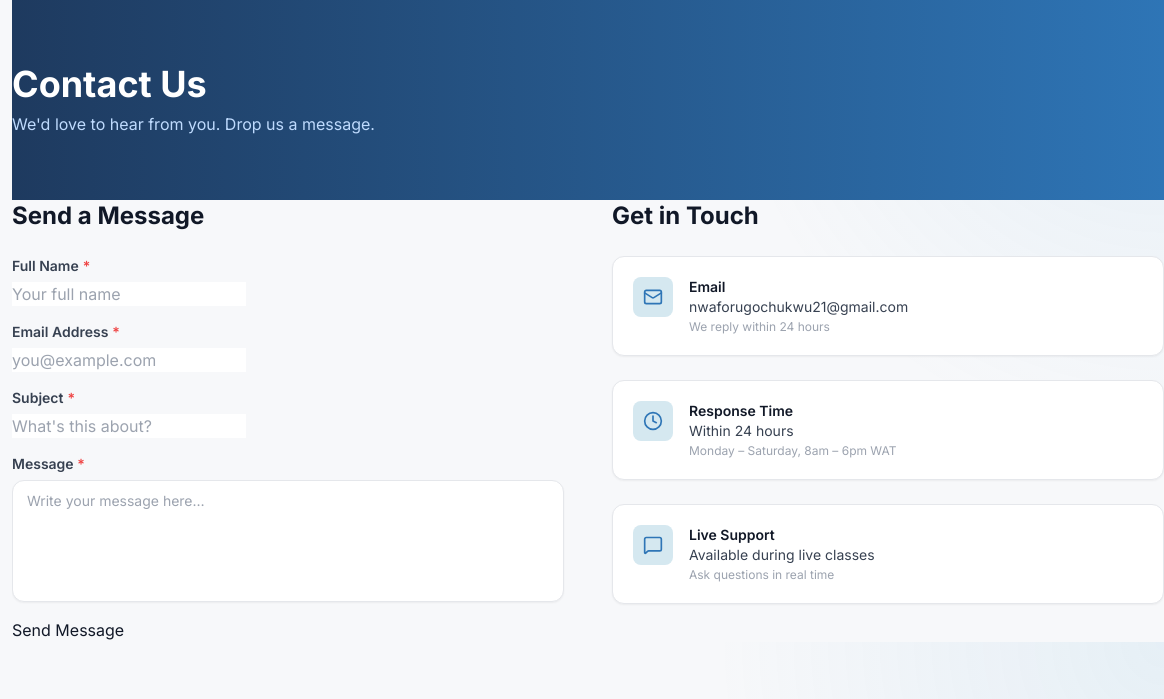
ContactPage › shows an error alert when submission fails
Step 1. Type "Test User" into the field labelled "Full Name*" → (129, 294), box [12, 282, 246, 306]
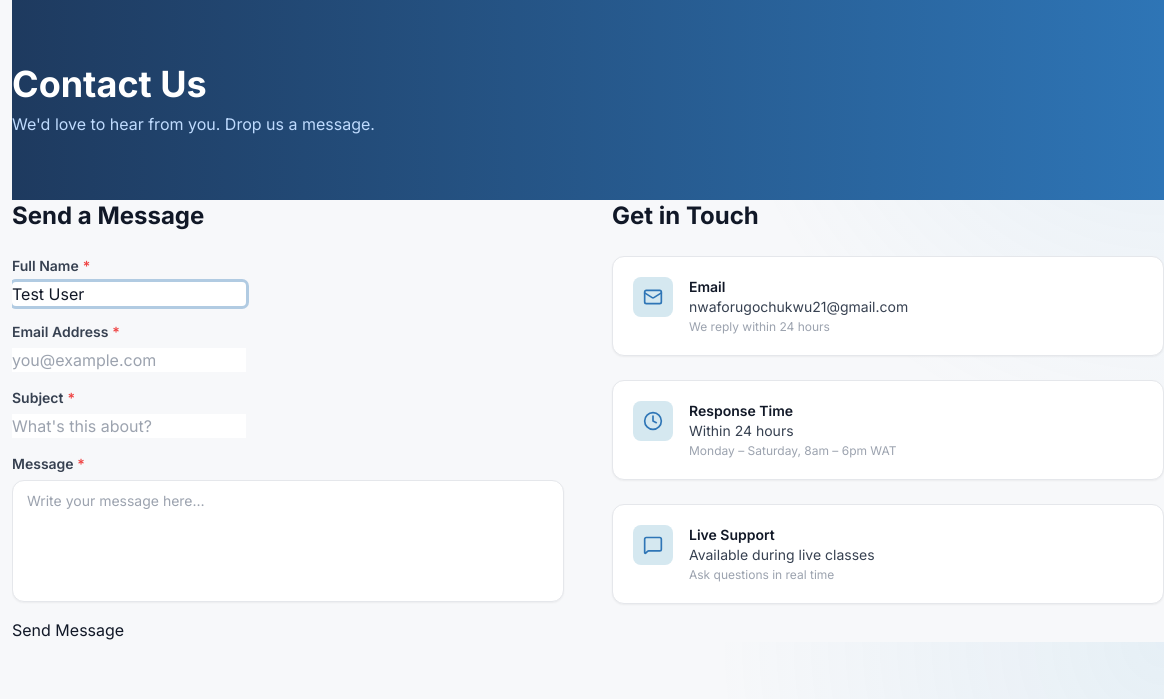
Step 2. Type "fail@example.com" into the field labelled "Email Address*" → (129, 360), box [12, 348, 246, 372]
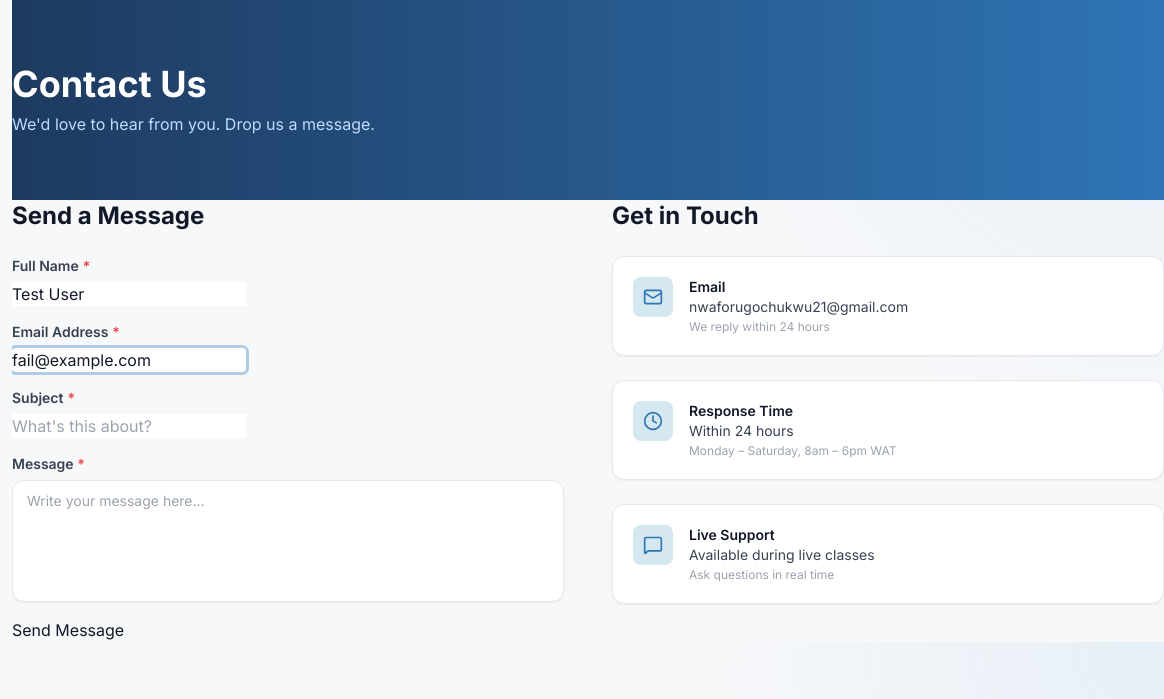
Step 3. Type "Question" into the field labelled "Subject*" → (129, 426), box [12, 414, 246, 438]
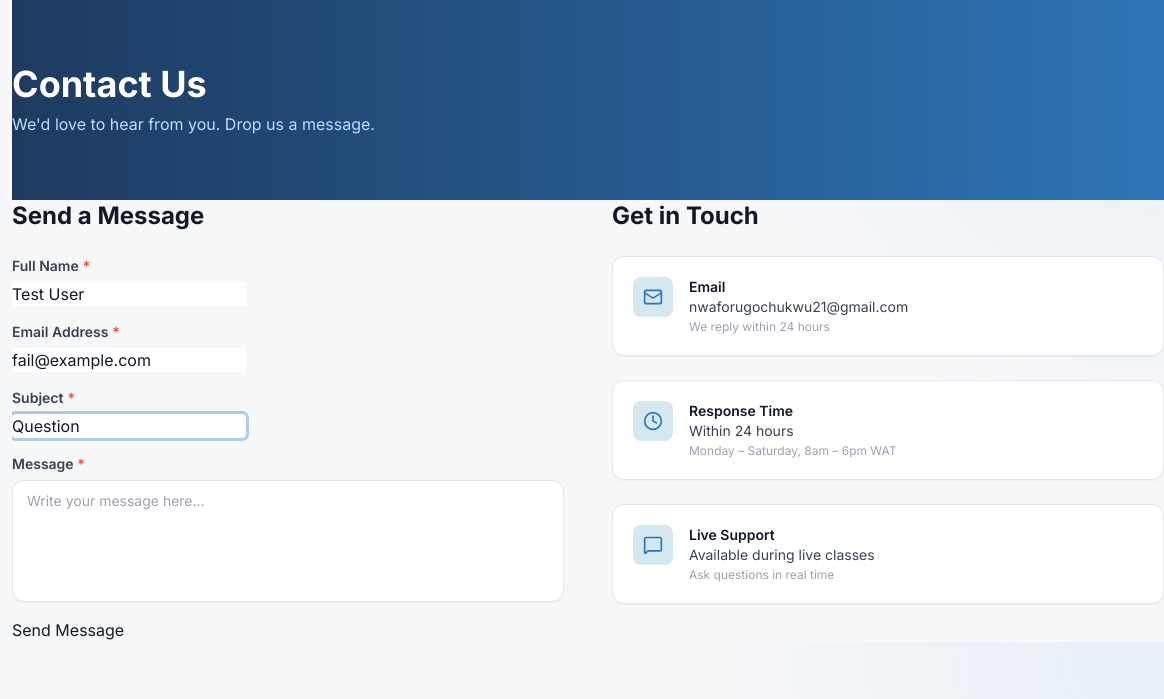
Step 4. Type "This message will fail to send on purpose." into the text box labelled "Message *" → (288, 541), box [12, 480, 564, 602]
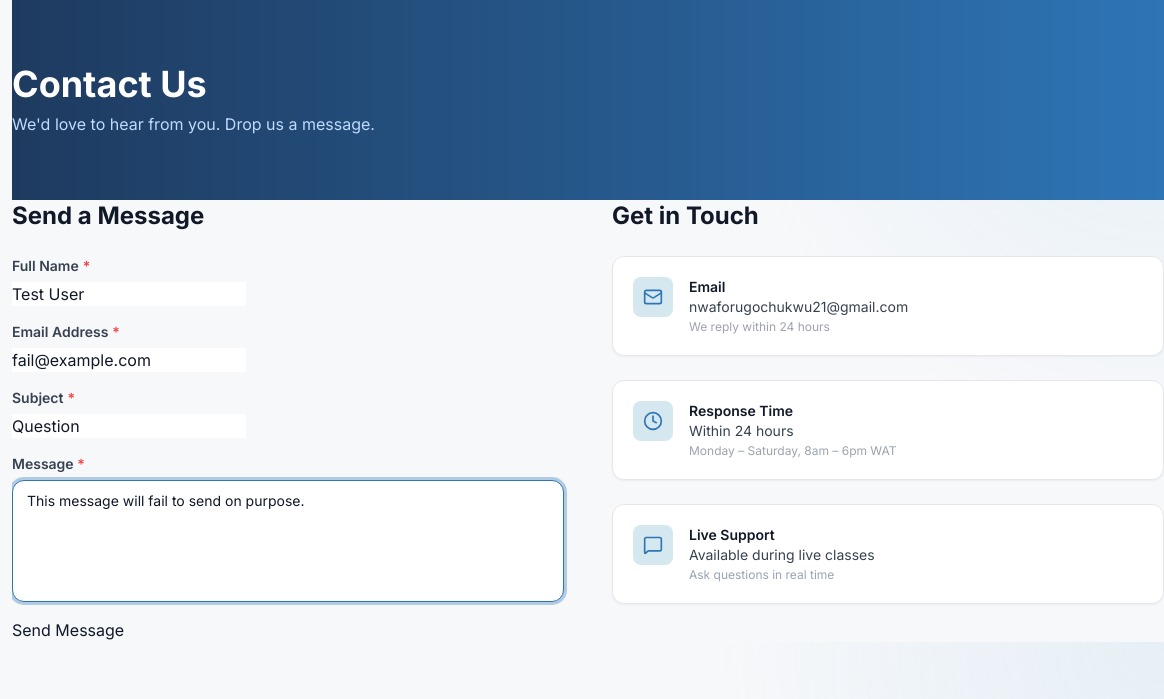
Step 5. Click the button "Send Message" → (68, 630), box [12, 618, 124, 642]
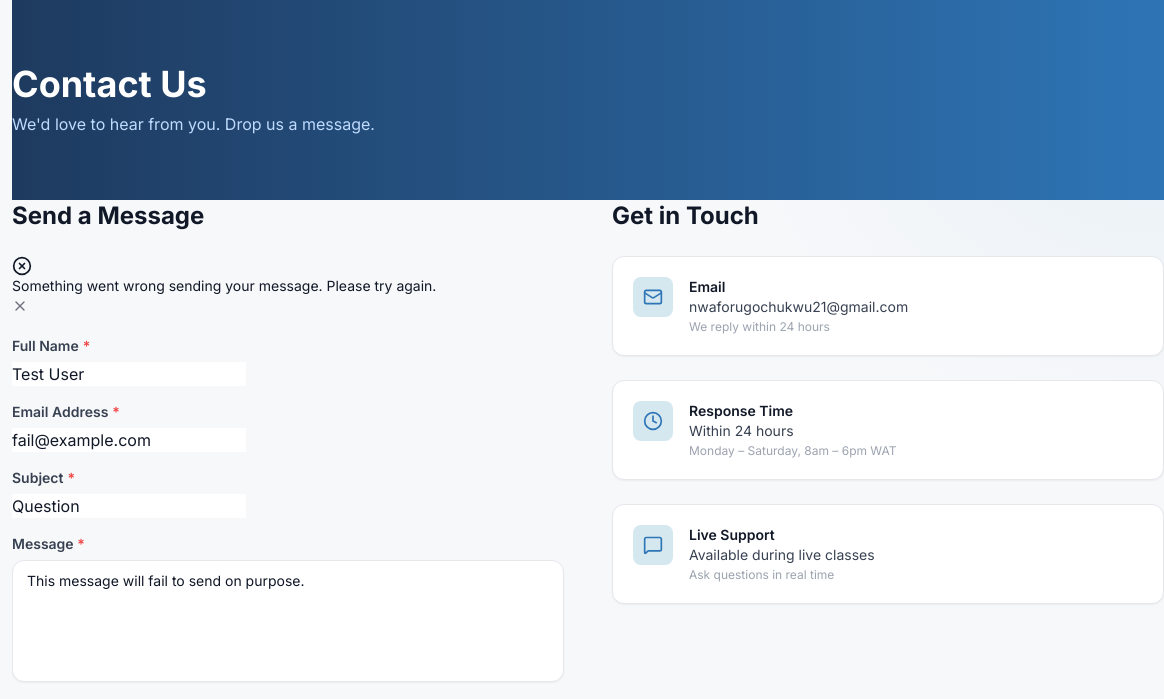
Check: the message shows "Something went wrong", box [12, 277, 436, 294]
